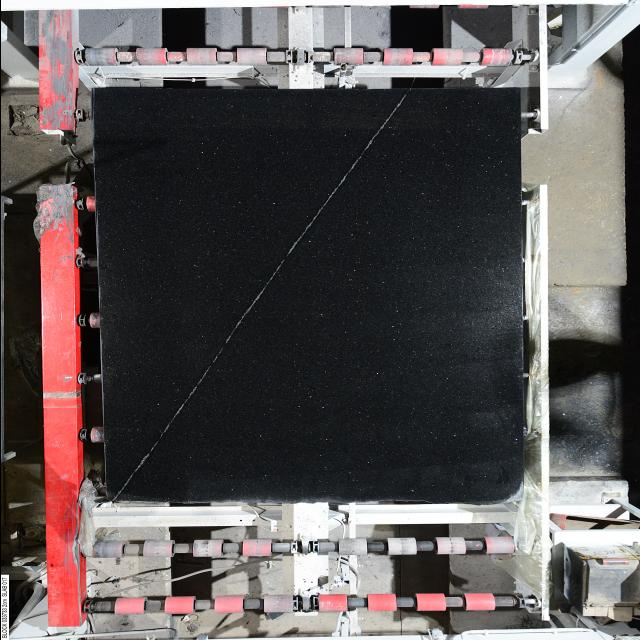chapa: (92, 89, 523, 504)
